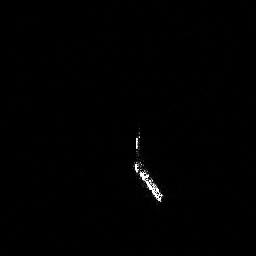ship: (129, 125, 169, 207)
